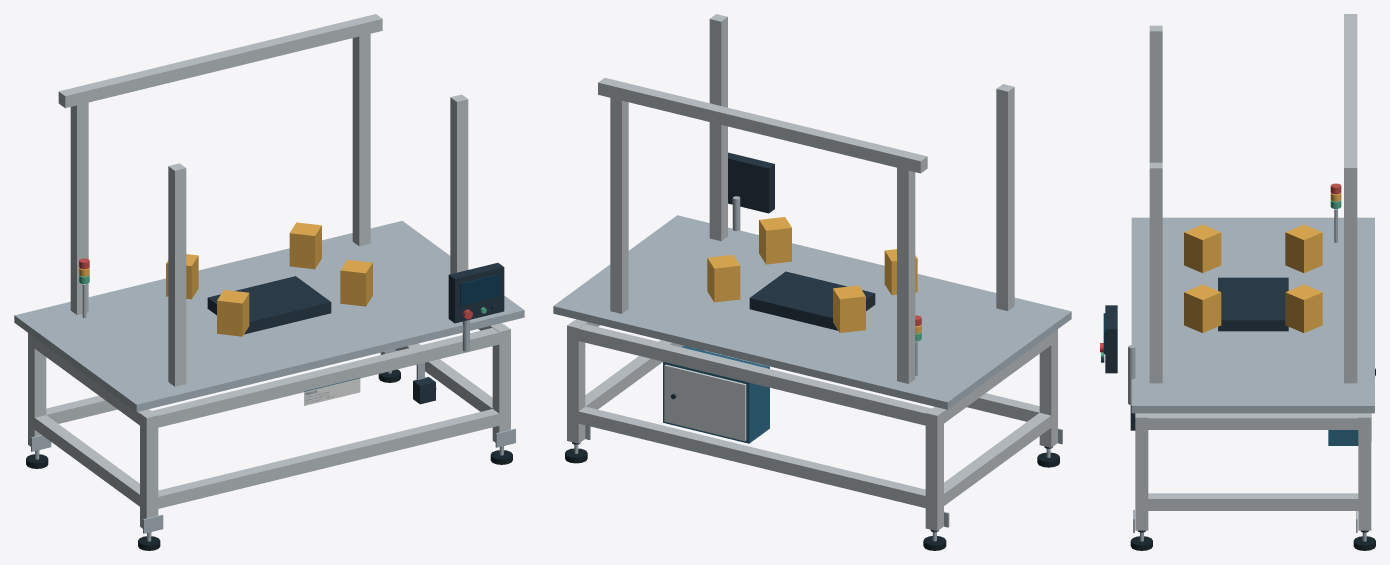
File: rigid-box-wrapper.glb
The picture shows the model from 3 angles, left to right: view 1: azimuth 30°, elevation 25°; view 2: azimuth 150°, elevation 25°; view 3: azimuth 270°, elevation 25°; orthographic projection. The views are drawn at different scales.
Parts seen in each view (by area): view 1: Worktop_31, Extrusion_22, Extrusion_23, Extrusion_36, Extrusion_33, Extrusion_34, Extrusion_32, BoxNest_41, Extrusion_35, Extrusion_24, Extrusion_8, PanelBack_43 (+11 smaller); view 2: Worktop_31, Extrusion_20, Extrusion_21, Extrusion_36, BackAccessDoor_29, Extrusion_33, Extrusion_34, Extrusion_32, Extrusion_35, BoxNest_41, Extrusion_24, PanelBack_43 (+11 smaller); view 3: Worktop_31, Extrusion_26, BoxNest_41, Extrusion_27, Extrusion_35, Extrusion_34, Extrusion_36, Extrusion_33, Extrusion_13, Extrusion_18, CornerPad_38, CornerPad_37 (+5 smaller).
Part boxes in pixels (x1,y1,x2,y2): Worktop_31: (14,221,524,411); Extrusion_22: (152,409,504,509); Extrusion_23: (152,327,504,428); Extrusion_36: (58,14,382,108); Extrusion_33: (168,163,186,386); Extrusion_34: (352,28,370,246); Extrusion_32: (70,96,88,315); BoxNest_41: (207,276,331,334); Extrusion_35: (450,94,468,274); Extrusion_24: (31,415,143,508); Extrusion_8: (140,410,158,528); PanelBack_43: (448,263,504,323); Worktop_31: (553,215,1071,409); Extrusion_20: (578,406,930,508); Extrusion_21: (573,324,931,425); Extrusion_36: (598,78,927,173); BackAccessDoor_29: (664,364,746,441); Extrusion_33: (996,84,1014,310); Extrusion_34: (610,92,628,313); Extrusion_32: (897,161,915,383); Extrusion_35: (709,14,727,240); BoxNest_41: (749,271,875,330); Extrusion_24: (940,412,1054,508); PanelBack_43: (728,152,774,213); Worktop_31: (1131,217,1374,413); Extrusion_26: (1142,493,1364,510); BoxNest_41: (1218,277,1288,331); Extrusion_27: (1142,413,1364,429); Extrusion_35: (1149,162,1162,383); Extrusion_34: (1344,180,1357,383); Extrusion_36: (1344,14,1357,179); Extrusion_33: (1149,25,1162,162); Extrusion_13: (1358,413,1371,530); Extrusion_18: (1135,413,1148,530); CornerPad_38: (1184,224,1221,273); CornerPad_37: (1285,224,1322,272).
Bounding box in the file's own units: 2.2 × 2.01 × 1.36.
11 materials, 1 textured.
